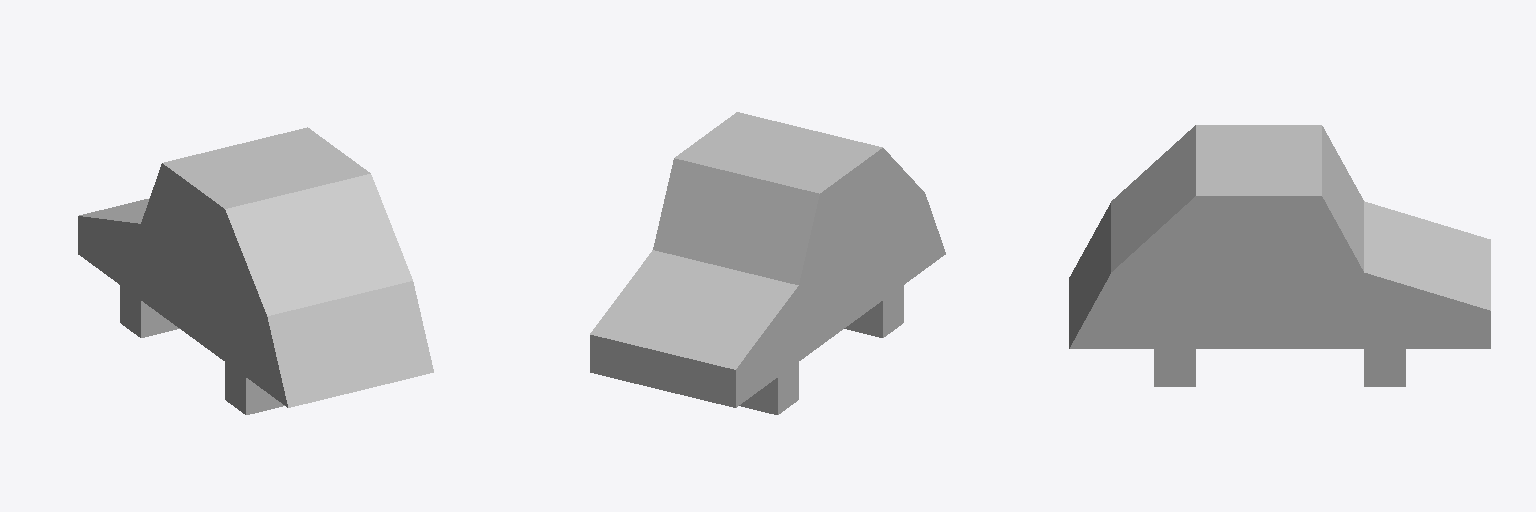
The model's file is vehicle_car.obj.
The picture shows the model from 3 angles: view 1: azimuth 30°, elevation 25°; view 2: azimuth 150°, elevation 25°; view 3: azimuth 270°, elevation 25°; orthographic projection.
Parts seen in each view (by area): view 1: vehicle_car; view 2: vehicle_car; view 3: vehicle_car.
Part boxes in pixels (bbox=[...]): vehicle_car: bbox=[78, 127, 433, 414]; vehicle_car: bbox=[590, 112, 945, 414]; vehicle_car: bbox=[1069, 125, 1490, 386].
Size of the model in its own units: 1 by 1.25 by 2.5.